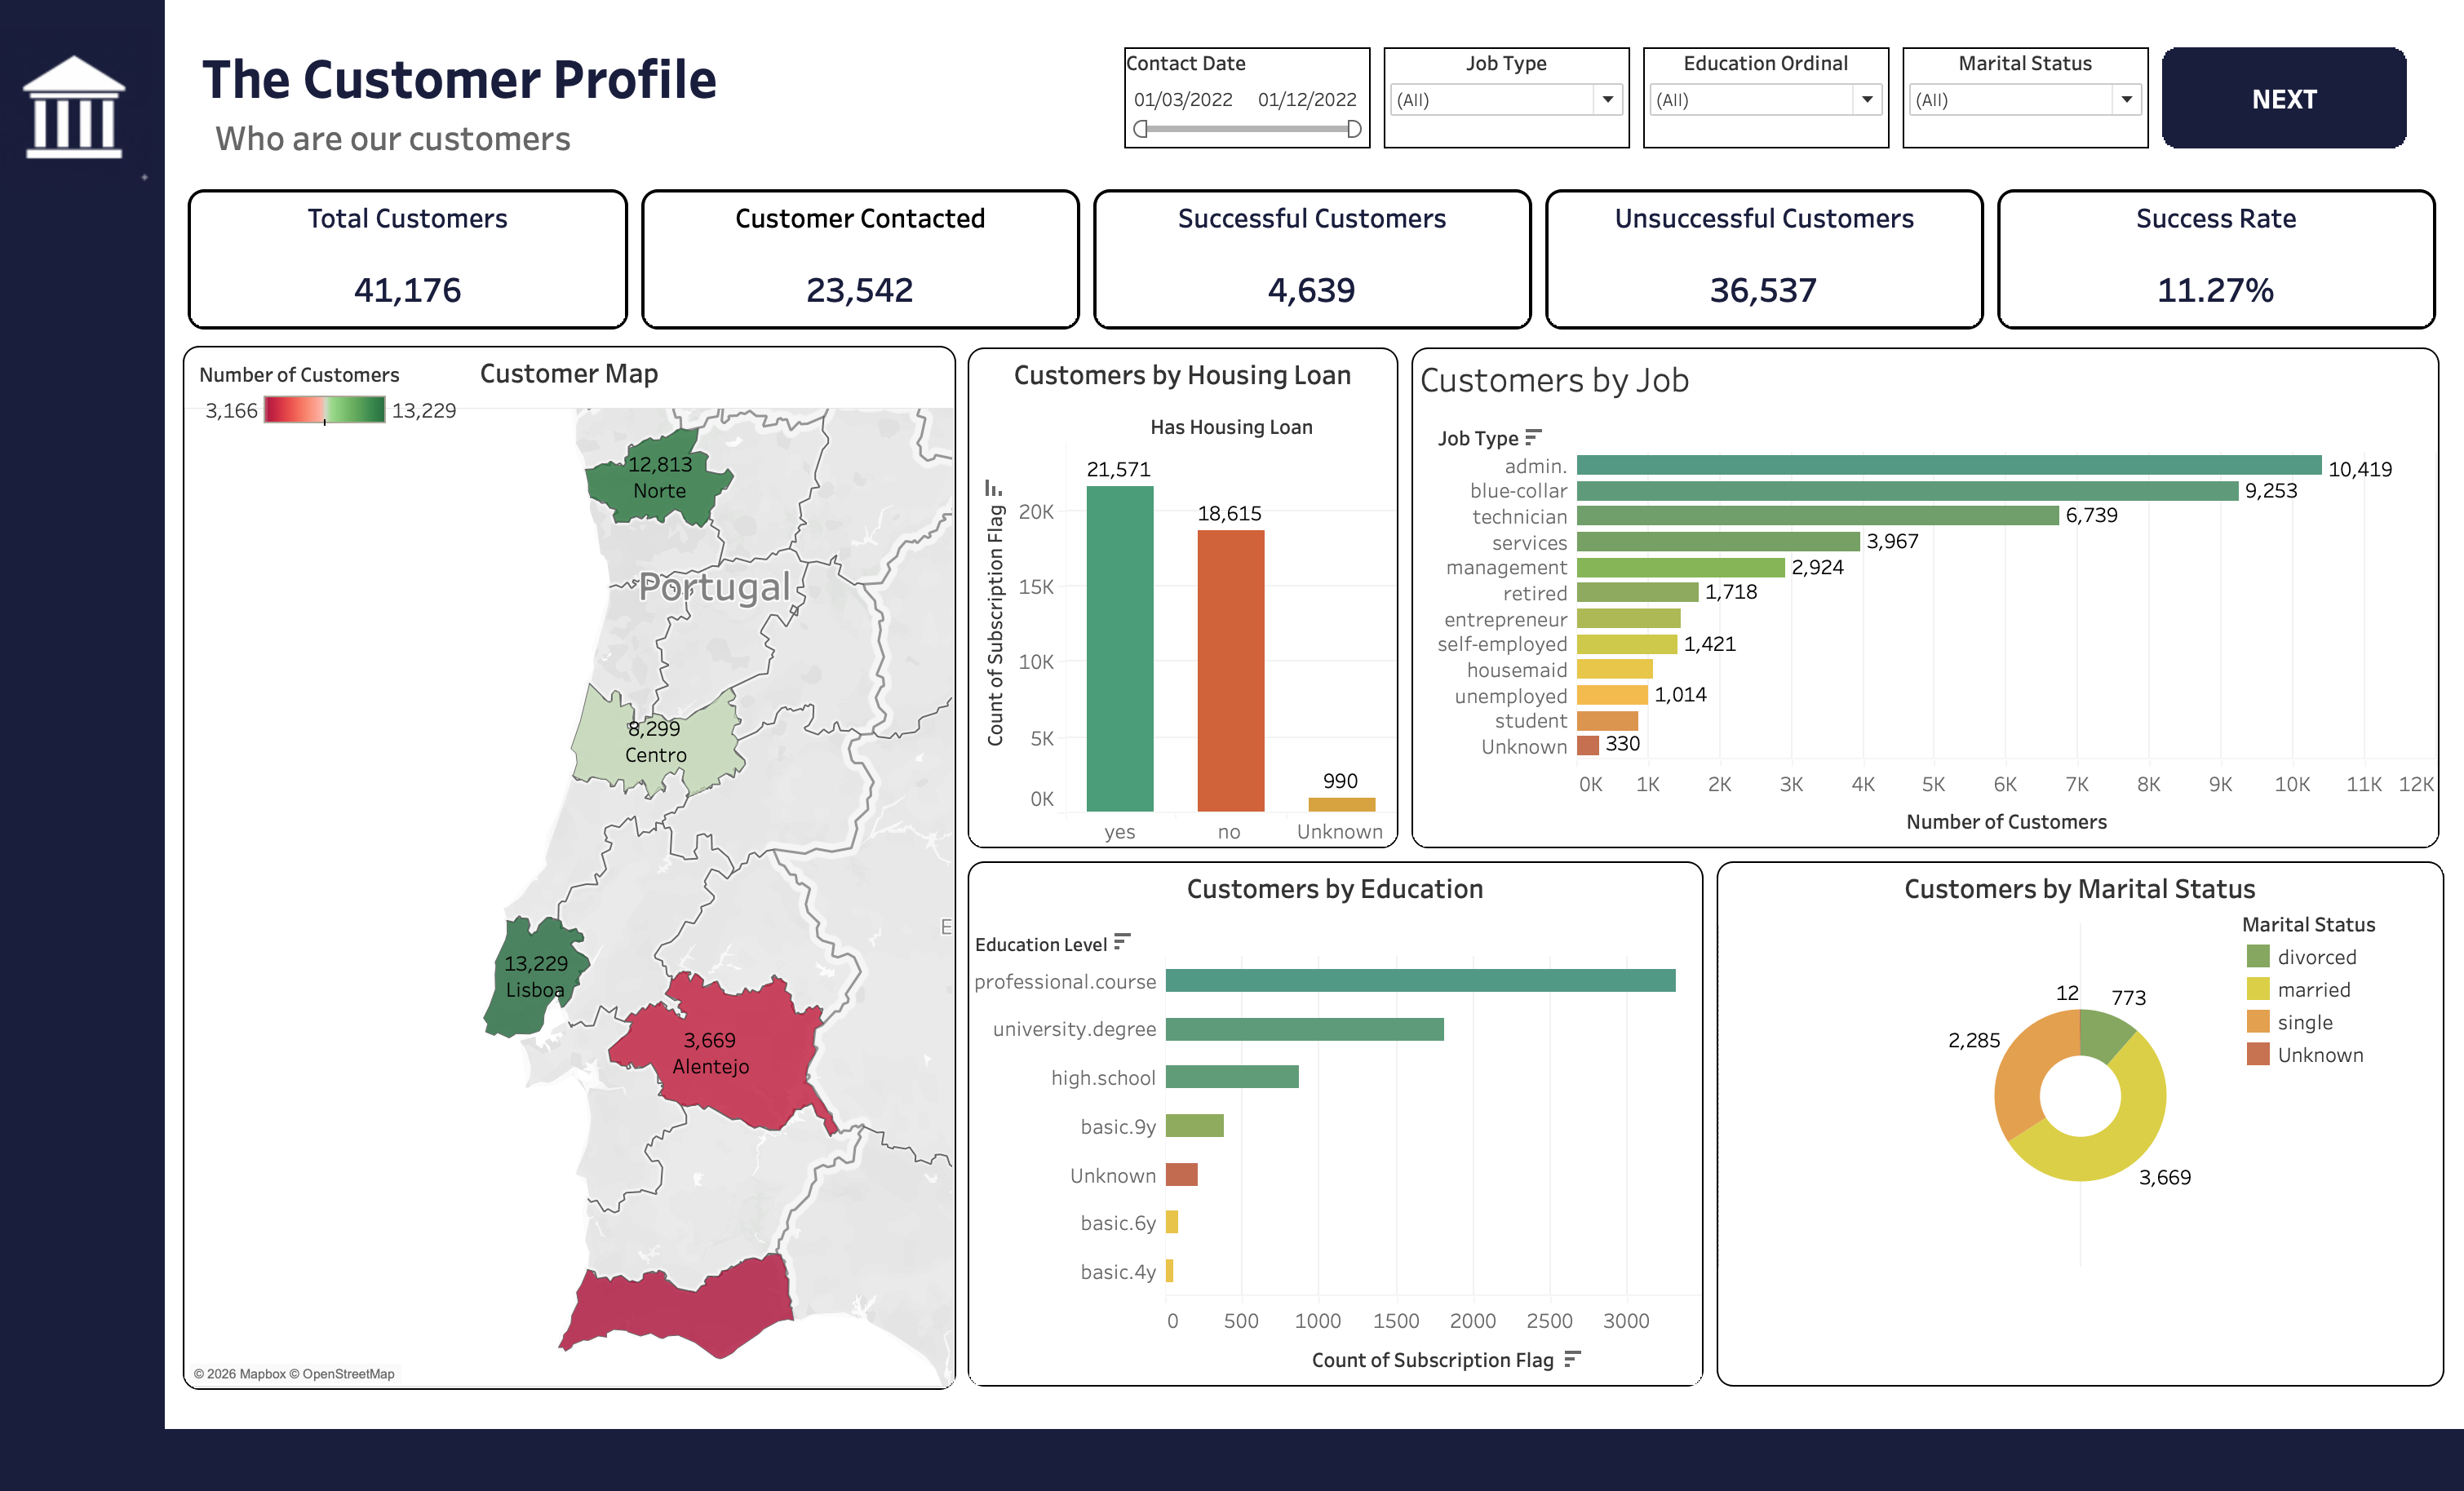

This screenshot's page, from the dashboard's own definition file:
{"tool":"tableau","page":{"name":"Dashboard 1","canvas":[1000,1000],"units":"permille","ordinal":0},"visuals":[{"type":"dashboard-object","box":[13.8,20.2,48.5,78]},{"type":"filter","title":"Customers by Housing Loan","param":"[federated.15u9y5w1suofnn13o5t910siqhh7].[none:Calculation_2485578572034066:qk]","box":[454.4,28.3,105.2,76.2]},{"type":"filter","title":"Customers by Housing Loan","param":"[federated.15u9y5w1suofnn13o5t910siqhh7].[Action (Job Type)]","box":[559.5,28.3,105.2,76.2]},{"type":"filter","title":"Customers by Housing Loan","param":"[federated.15u9y5w1suofnn13o5t910siqhh7].[Action (Education Ordinal)]","box":[664.7,28.3,105.2,76.2]},{"type":"filter","title":"Customers by Housing Loan","param":"[federated.15u9y5w1suofnn13o5t910siqhh7].[Action (Marital Status)]","box":[769.8,28.3,105.2,76.2]},{"type":"dashboard-object","box":[875,28.3,104.5,76.2]},{"type":"text","box":[81.1,29.2,321.8,45.5]},{"type":"worksheet","title":"KPI - Total Customers","mark":"Text","box":[74.7,123,183.9,102.3]},{"type":"worksheet","title":"KPI - Customer Contacted","mark":"Text","box":[258.6,123,183.2,102.3]},{"type":"worksheet","title":"KPI Successful","mark":"Text","box":[441.8,123,183.2,102.3]},{"type":"worksheet","title":"KPI Unsuccessful","mark":"Text","box":[625,123,183.2,102.3]},{"type":"worksheet","title":"KPI Success Rate","mark":"Text","box":[808.2,123,183.2,102.3]},{"type":"worksheet","title":"Customer Map","mark":"Multipolygon","box":[73,227.5,319,704.8]},{"type":"worksheet","title":"Customers by Housing Loan","mark":"Bar","rows":["subscription_flag"],"cols":["has_housing_loan"],"box":[390.9,228.7,179.9,343.1]},{"type":"worksheet","title":"Customers by Job","mark":"Bar","rows":["job_type"],"cols":["subscription_flag"],"box":[570.7,228.7,422,343.1]},{"type":"legend","title":"Customer Map","param":"[federated.15u9y5w1suofnn13o5t910siqhh7].[cnt:subscription_flag:qk]","box":[81.9,241.5,107.5,88.7]},{"type":"worksheet","title":"Customers by Education","mark":"Bar","rows":["education_level"],"cols":["subscription_flag"],"box":[390.9,571.8,303.6,359.4]},{"type":"worksheet","title":"Customers by Marital Status","mark":"Pie","cols":["Calculation_2485578567766031","Calculation_2485578567815185"],"box":[694.4,571.8,300,359.4]}]}

Visuals, with their boxes on the dashboard's canvas, which has no fixed pixel size, in thousandths of its width and height (x1, y1, x2, y2). These are canvas units, not pixel positions in the 2464x1491 screenshot, which may show the page scaled, cropped or inside an application window:
dashboard-object: l=14, t=20, r=62, b=98
"Customers by Housing Loan" filter: l=454, t=28, r=560, b=104
"Customers by Housing Loan" filter: l=560, t=28, r=665, b=104
"Customers by Housing Loan" filter: l=665, t=28, r=770, b=104
"Customers by Housing Loan" filter: l=770, t=28, r=875, b=104
dashboard-object: l=875, t=28, r=980, b=104
text: l=81, t=29, r=403, b=75
"KPI - Total Customers" worksheet (Text marks): l=75, t=123, r=259, b=225
"KPI - Customer Contacted" worksheet (Text marks): l=259, t=123, r=442, b=225
"KPI Successful" worksheet (Text marks): l=442, t=123, r=625, b=225
"KPI Unsuccessful" worksheet (Text marks): l=625, t=123, r=808, b=225
"KPI Success Rate" worksheet (Text marks): l=808, t=123, r=991, b=225
"Customer Map" worksheet (Multipolygon marks): l=73, t=228, r=392, b=932
"Customers by Housing Loan" worksheet (Bar marks): l=391, t=229, r=571, b=572
"Customers by Job" worksheet (Bar marks): l=571, t=229, r=993, b=572
"Customer Map" legend: l=82, t=242, r=189, b=330
"Customers by Education" worksheet (Bar marks): l=391, t=572, r=694, b=931
"Customers by Marital Status" worksheet (Pie marks): l=694, t=572, r=994, b=931
